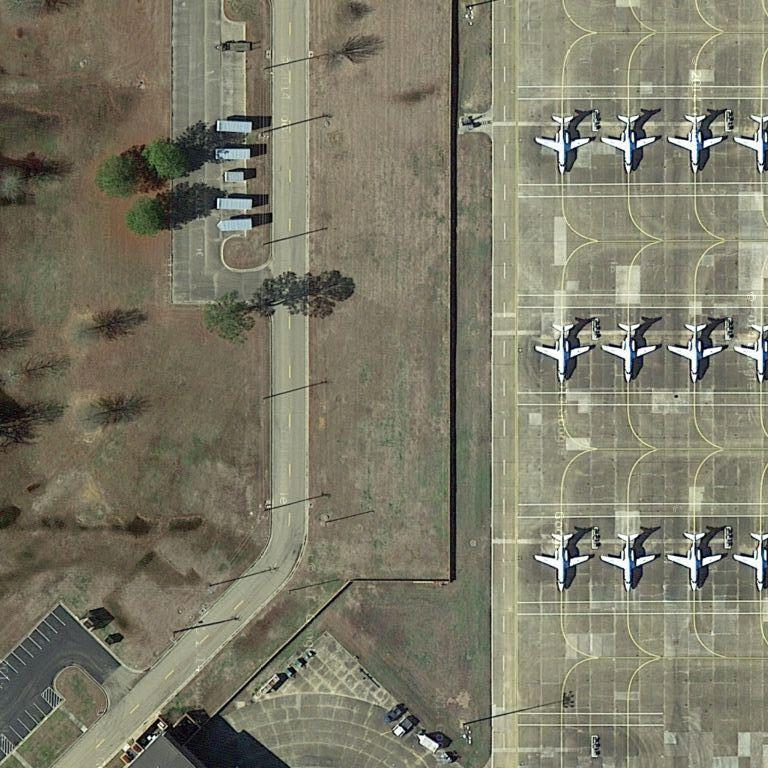plane: (600, 524, 660, 596), (535, 315, 593, 388), (665, 108, 728, 175), (533, 527, 594, 595), (665, 318, 723, 388), (600, 110, 656, 179), (599, 319, 658, 384), (665, 528, 724, 592), (534, 111, 591, 177), (733, 102, 766, 189), (732, 314, 766, 387), (733, 525, 766, 597)
